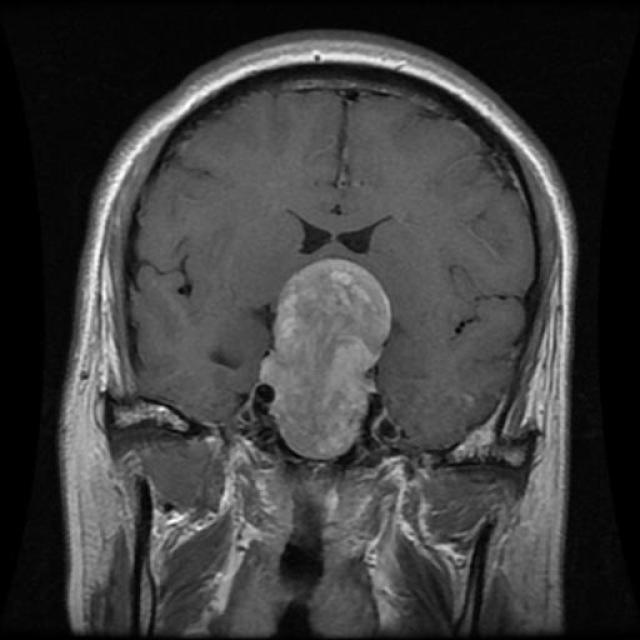pituitary: (256, 253, 395, 468)
